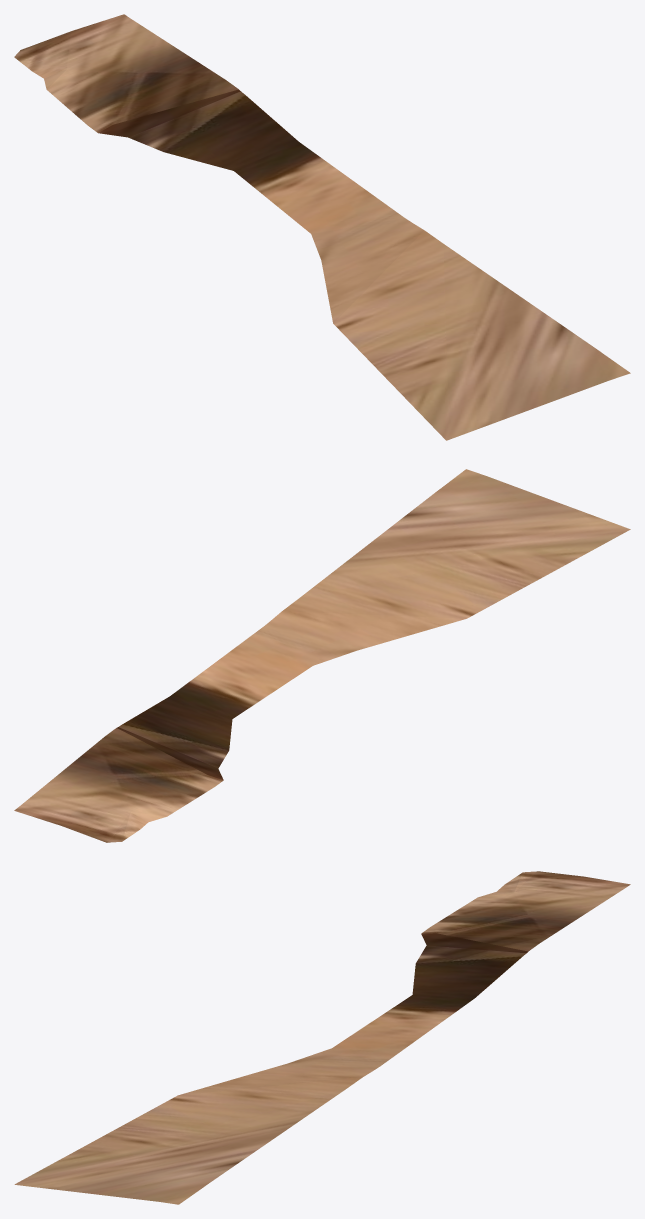
3 views of the same model, one above another, from view 1: azimuth 30°, elevation 25°; view 2: azimuth 150°, elevation 25°; view 3: azimuth 330°, elevation 25° (orthographic). The views are drawn at different scales.
Bounding box in the file's own units: 0.2197 × 0.0256 × 1.04.
1 material, 1 textured.
